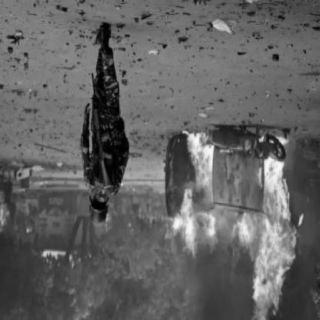Fire: (172, 126, 302, 318)
